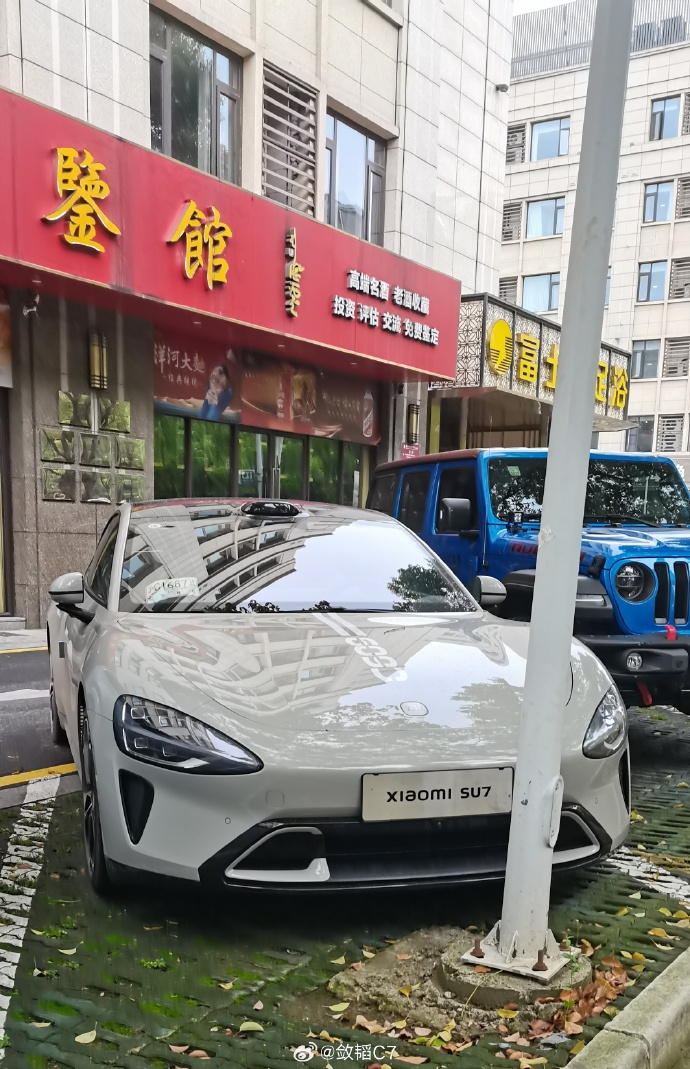other: (372, 453, 690, 701)
su7: (41, 493, 628, 888)
